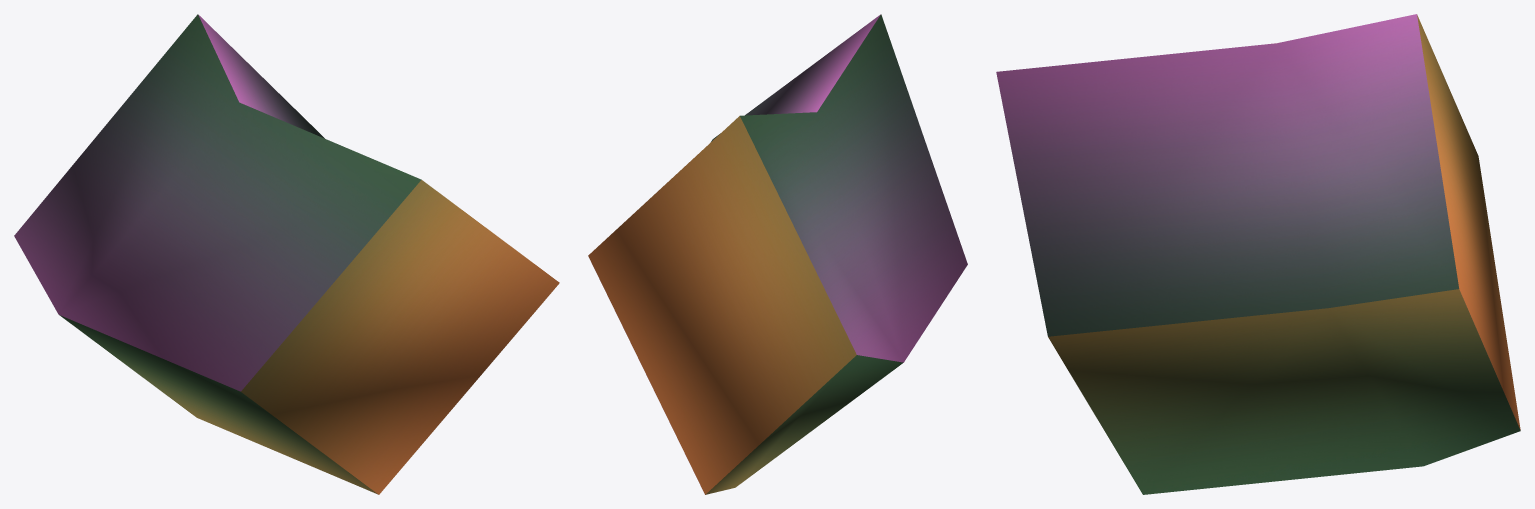
File: carré.glb
3 renders of one model, left to right at view 1: azimuth 30°, elevation 25°; view 2: azimuth 150°, elevation 25°; view 3: azimuth 270°, elevation 25°, orthographic. The views are drawn at different scales.
Parts seen in each view (by area): view 1: Cube.002; view 2: Cube.002; view 3: Cube.002.
Boxes of the visible parts, x1,y1,x2,y2 form: Cube.002: (14,14,559,494); Cube.002: (588,14,967,494); Cube.002: (996,14,1520,494).
Bounding box in the file's own units: 0.5834 × 0.6372 × 0.6711.
Materials: 1 (1 with a texture image).
